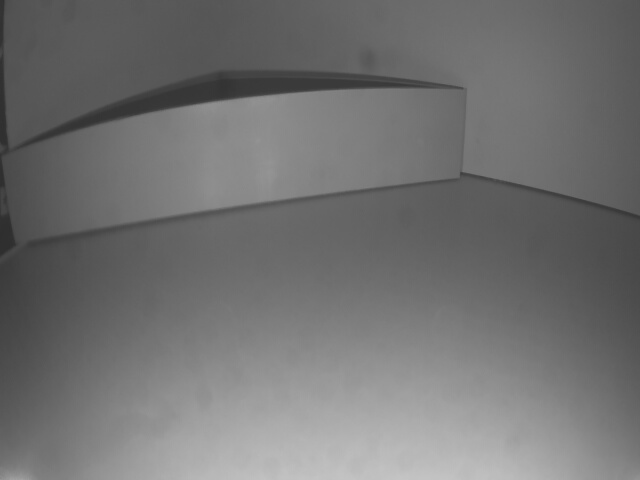Red: (0, 91, 469, 244)
